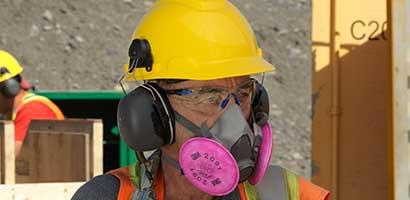helmet: (127, 1, 277, 78), (1, 52, 24, 83)
